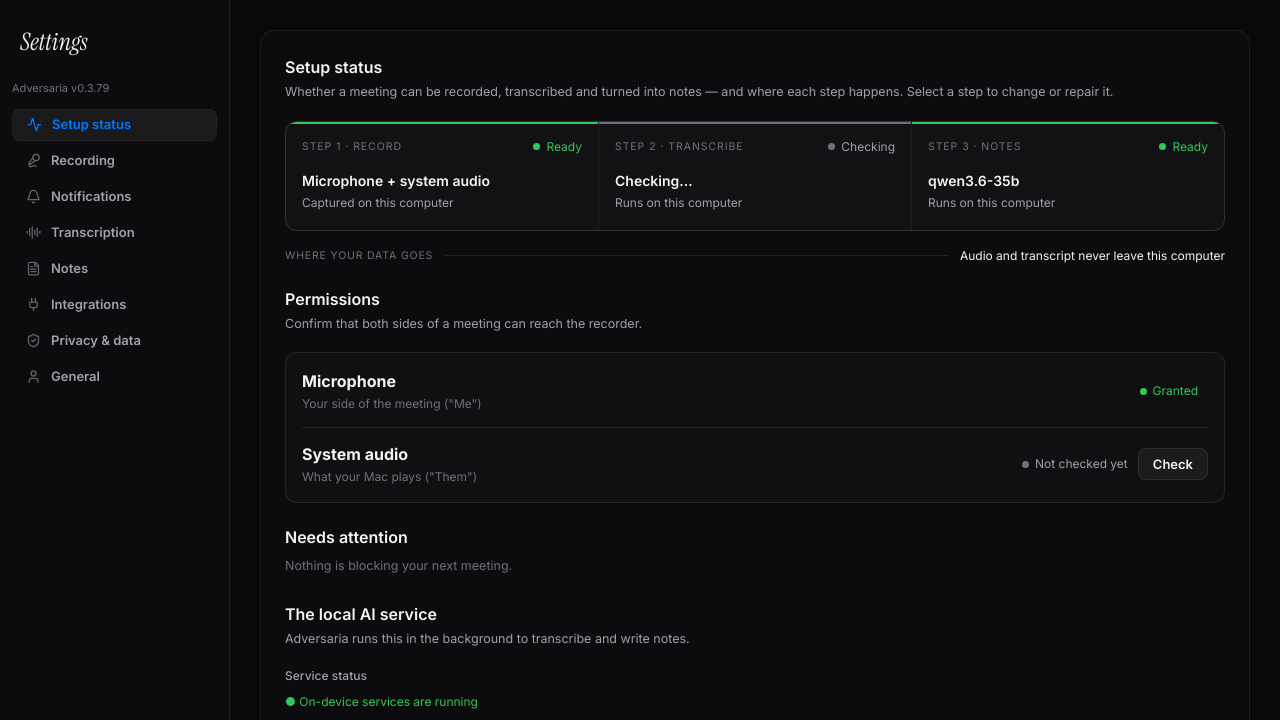
Scenario: Setup status permissions › runs the system-audio probe and renders the returned state
Click the button "Check": (1173, 464) x1=1138 y1=448 x2=1208 y2=480
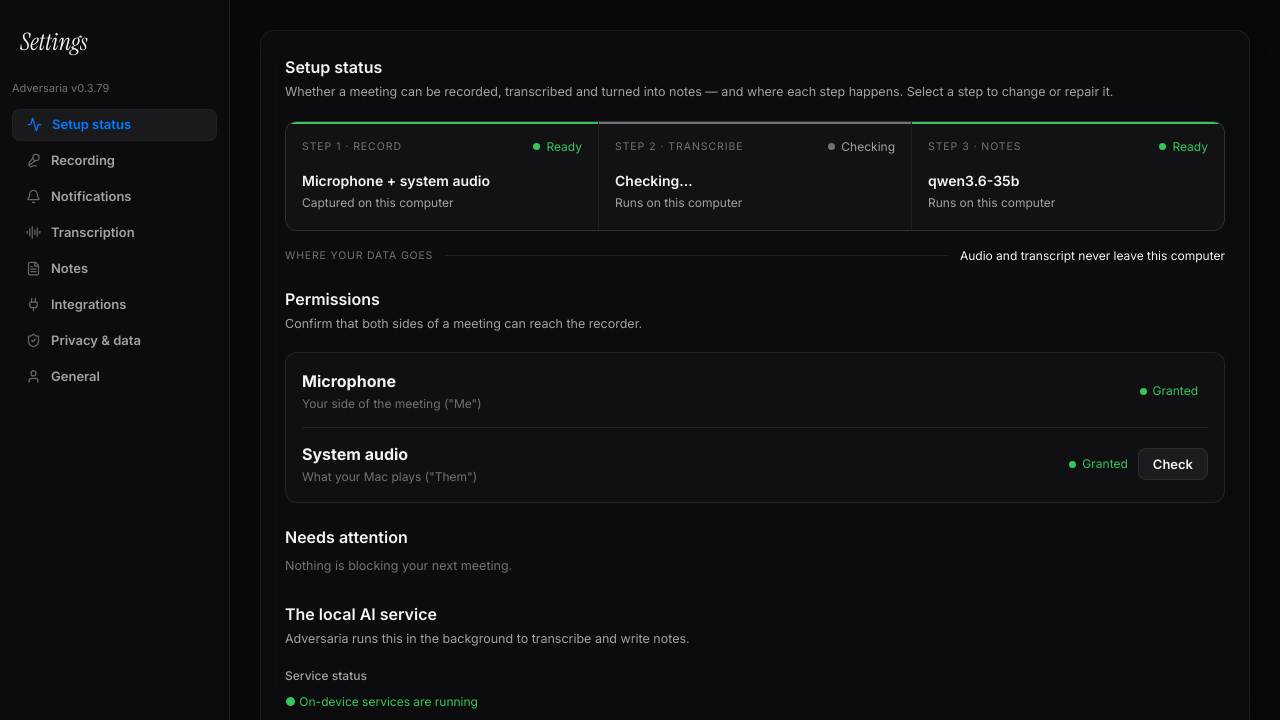
Expected: the element named "System audio permission: Granted" is shown, x1=1069 y1=455 x2=1128 y2=473
